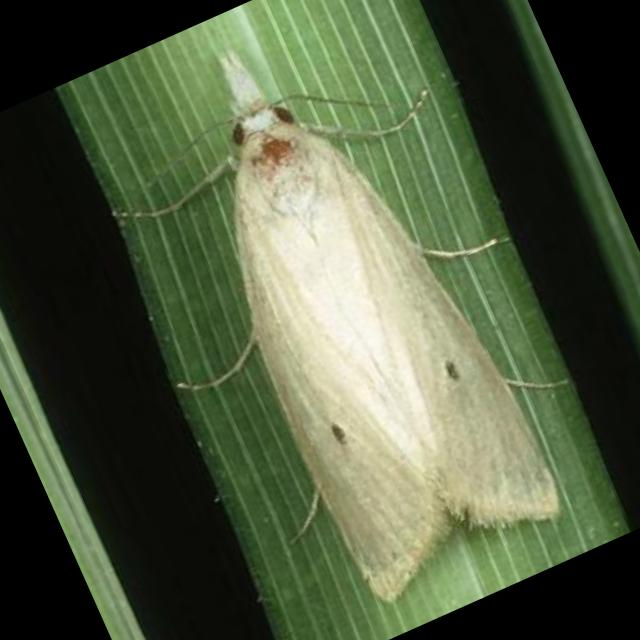stem-borer: (90, 0, 605, 633)
